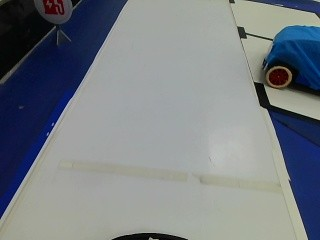battery: (32, 0, 74, 24)
car: (264, 22, 318, 95)
